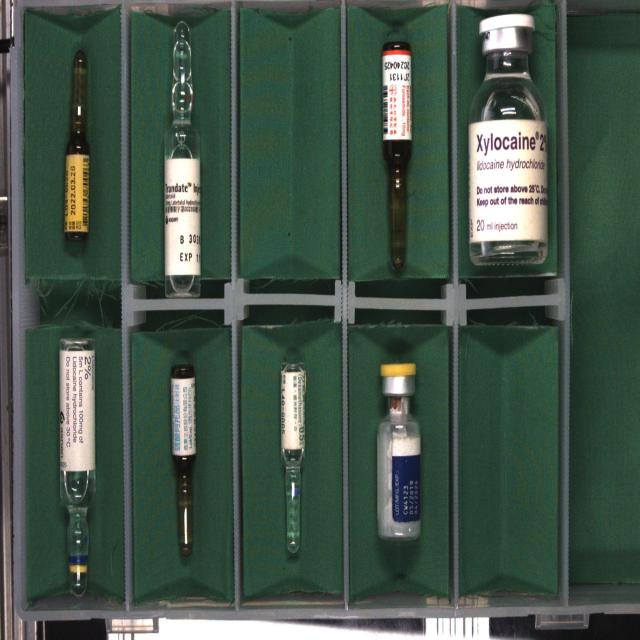Vials: (468, 14, 549, 266), (377, 363, 420, 540)
